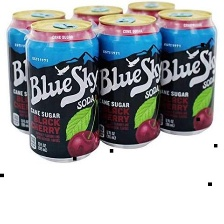can: (23, 16, 100, 162), (95, 12, 164, 144), (5, 6, 68, 134), (156, 8, 216, 136), (71, 5, 125, 24), (126, 0, 179, 15)
